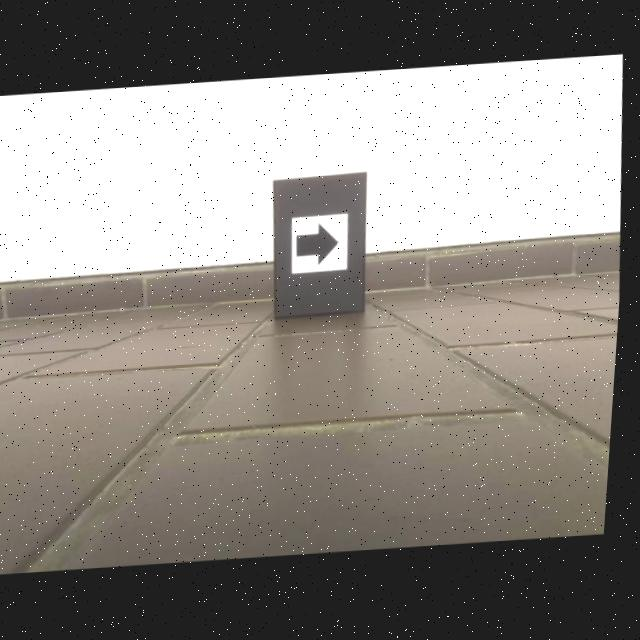RIGHT: (300, 222, 343, 268)
